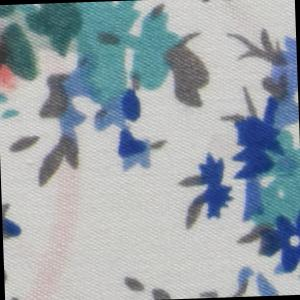Stain: (17, 144, 99, 300), (1, 18, 22, 96)
